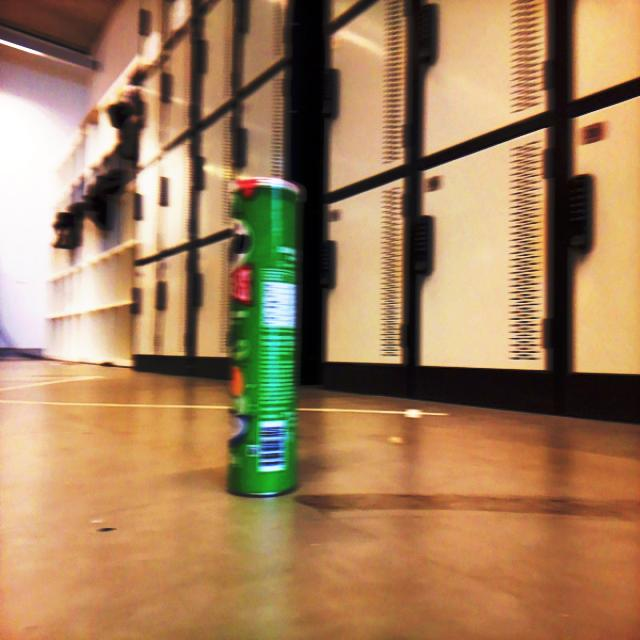greenpringles: (221, 158, 308, 506)
